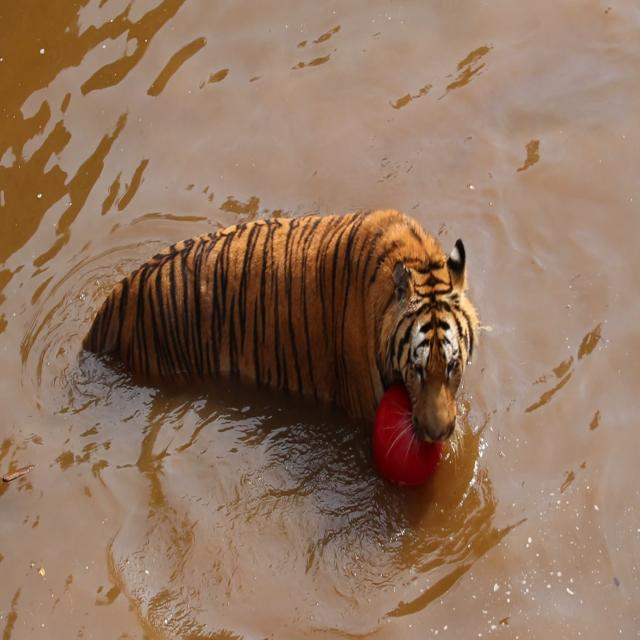Tiger: (66, 133, 505, 553)
